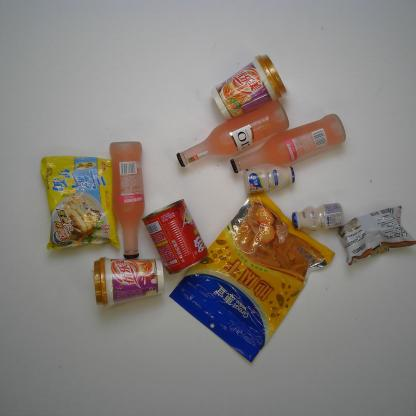Alcohol: (175, 99, 290, 168), (229, 112, 347, 174), (108, 140, 146, 259)
Canned Food: (140, 198, 210, 276)
Dried Fruit: (167, 190, 336, 366)
Instant Drink: (208, 54, 288, 120), (92, 256, 166, 308)
Instant Noodles: (38, 155, 120, 252)
Milk: (242, 163, 296, 194), (291, 202, 345, 231)
Seasoner: (335, 205, 416, 267)
